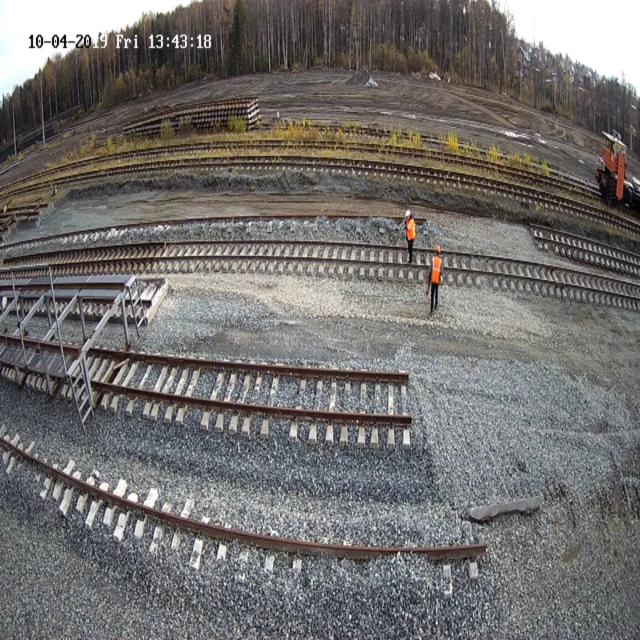Helmet: (405, 209, 410, 218), (436, 245, 440, 253)
Person: (426, 245, 443, 313), (403, 209, 416, 263)
